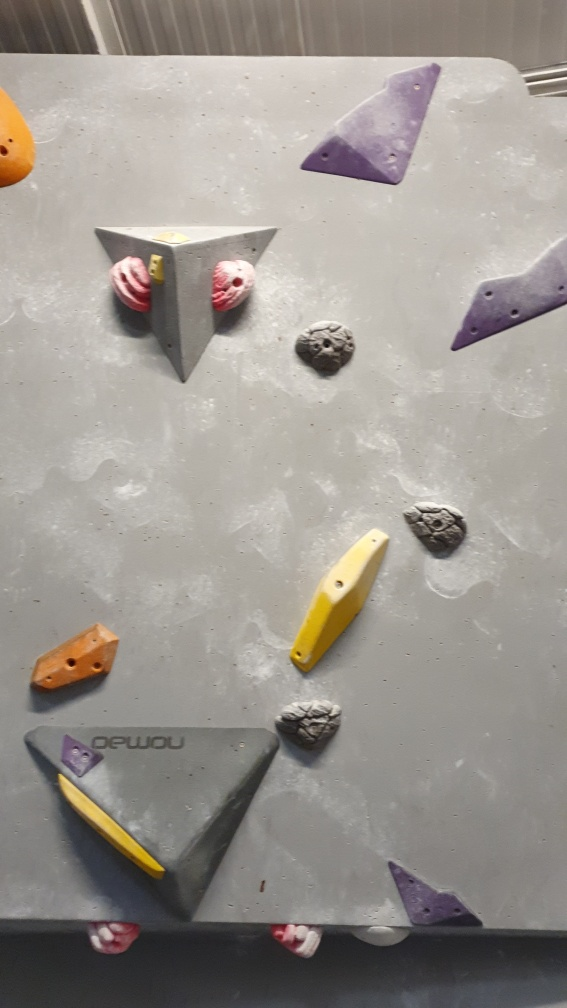Jug: (288, 315, 362, 379), (402, 496, 473, 557), (275, 700, 345, 753), (207, 259, 258, 317), (106, 251, 150, 314), (271, 921, 330, 965), (90, 924, 144, 962)
Pinch: (287, 522, 393, 673), (30, 622, 125, 697)
